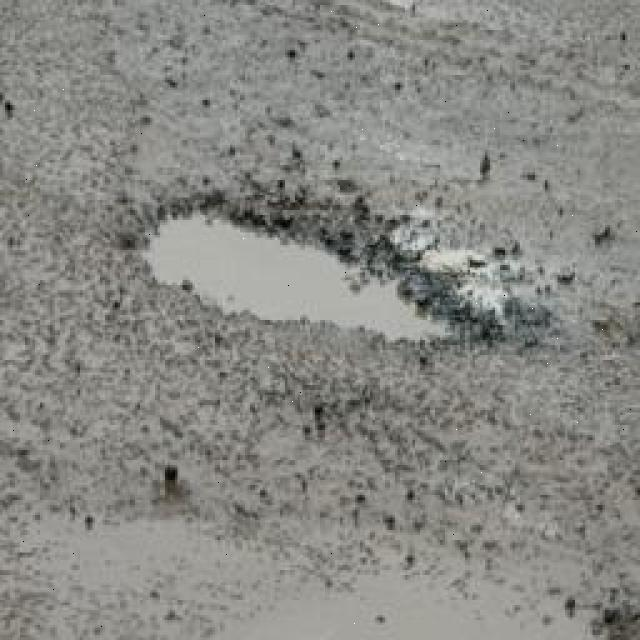waterlogging: (114, 198, 468, 330)
